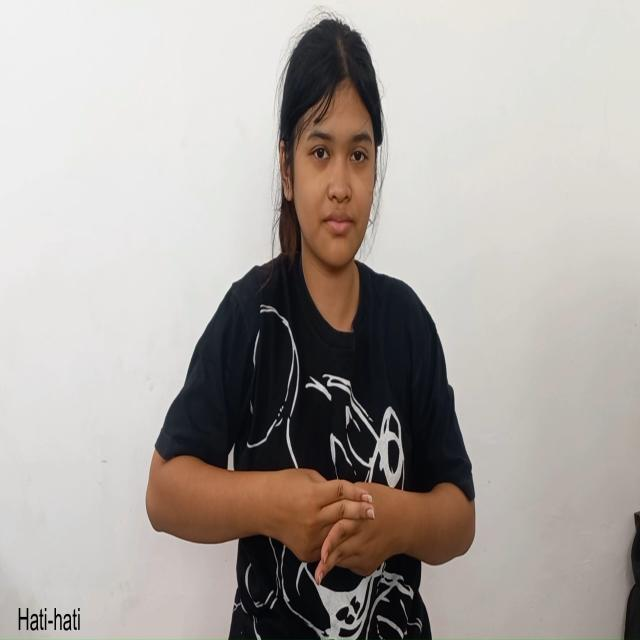Hati-hati -BISINDO-: (263, 451, 426, 602)
